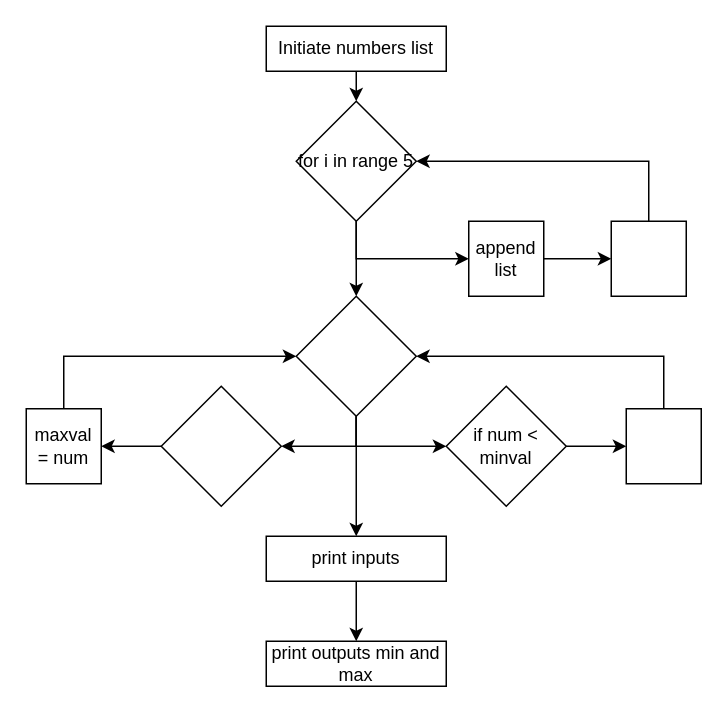
This 728x713 diagram has some shape labels left out. Here are the shapes that lost their labels. From the top down, the centre of each, then its label:
At point (648, 258): "define min and max".
At point (355, 355): "for numbers in list".
At point (220, 445): "if num > maxval".
At point (663, 445): "minval = num".
